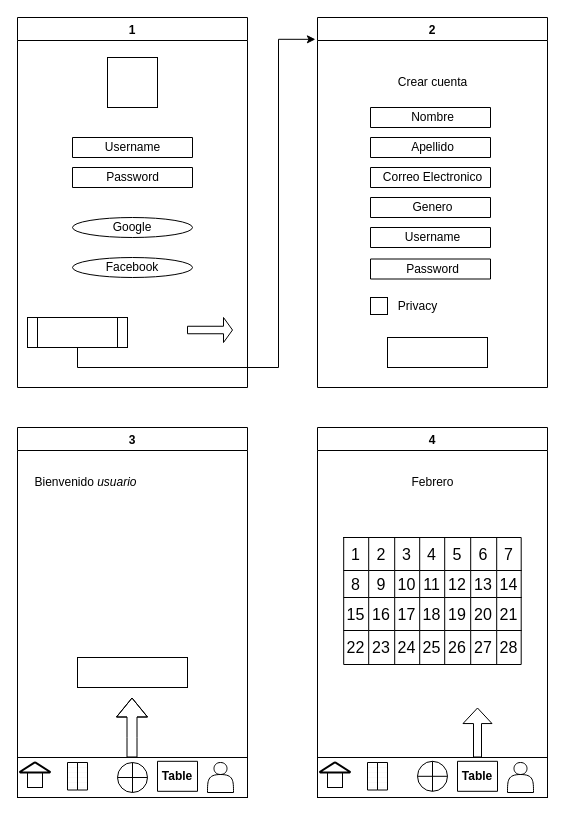
The diagram is 565 pixels wide and 815 high, and some of its shapes have lost their labels. The shapes that lost their labels are listed below. From the top down, each one's centre as x and y in pixels, then its label:
the point at 132,82: Logo
the point at 77,332: Register
the point at 437,352: Registrate!
the point at 132,672: Registra Prenda
